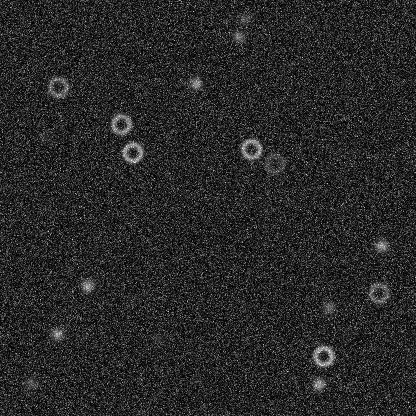Ring: (311, 343, 335, 367), (46, 75, 70, 99), (262, 151, 286, 175), (366, 280, 390, 304), (120, 140, 144, 164), (239, 136, 263, 160), (109, 112, 133, 136)
Spot: (235, 10, 251, 26), (79, 277, 95, 293), (23, 375, 39, 391), (49, 325, 65, 341), (310, 375, 326, 391), (37, 130, 53, 146), (230, 28, 246, 44), (149, 330, 165, 346), (373, 237, 389, 253), (122, 292, 138, 308), (320, 299, 336, 315), (187, 75, 203, 91)
